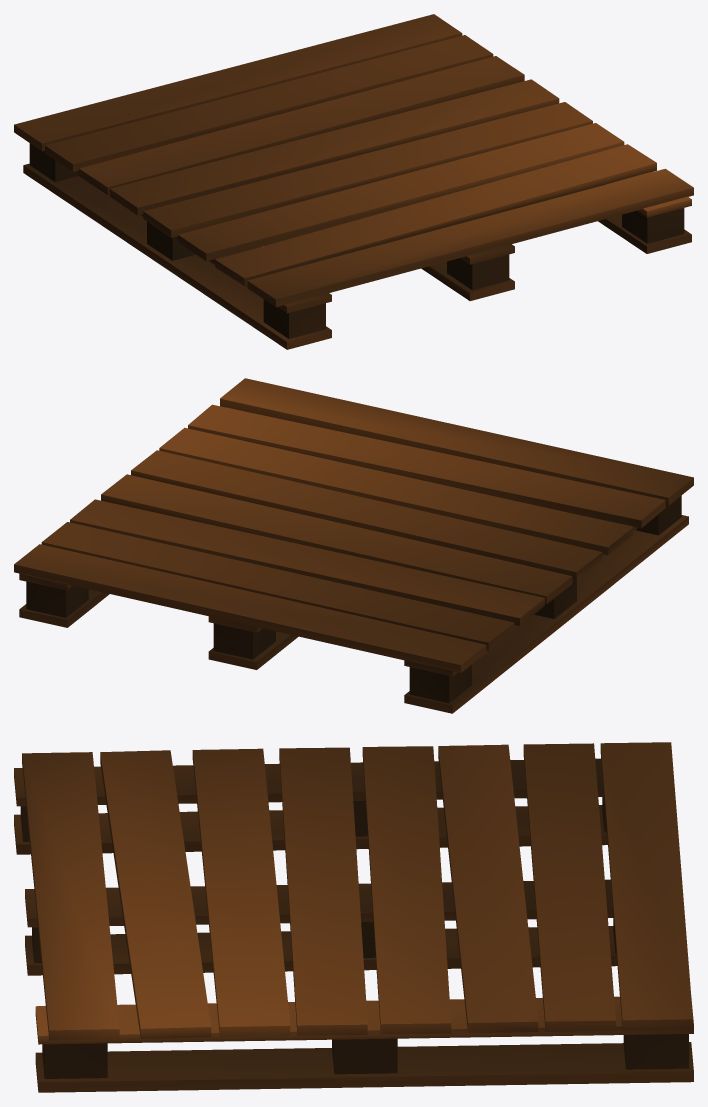
The model's file is Pallet_Medium.fbx.
3 views of the same model, one above another, from view 1: azimuth 30°, elevation 25°; view 2: azimuth 150°, elevation 25°; view 3: azimuth 270°, elevation 25° (orthographic). The views are drawn at different scales.
Parts seen in each view (by area): view 1: Pallet_Medium; view 2: Pallet_Medium; view 3: Pallet_Medium.
Part boxes in pixels (<box>): Pallet_Medium: <box>14,14,693,349</box>; Pallet_Medium: <box>14,378,693,713</box>; Pallet_Medium: <box>14,742,693,1092</box>.
Size of the model in its own units: 203 by 21.83 by 203.
